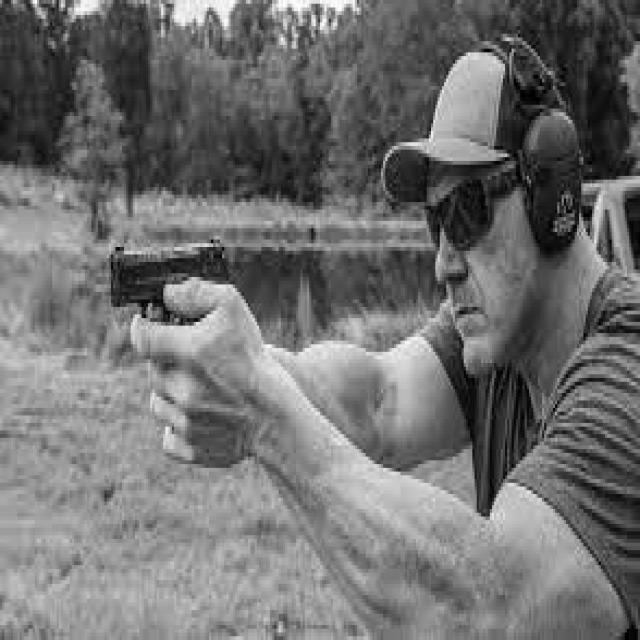gun: (110, 237, 228, 325)
